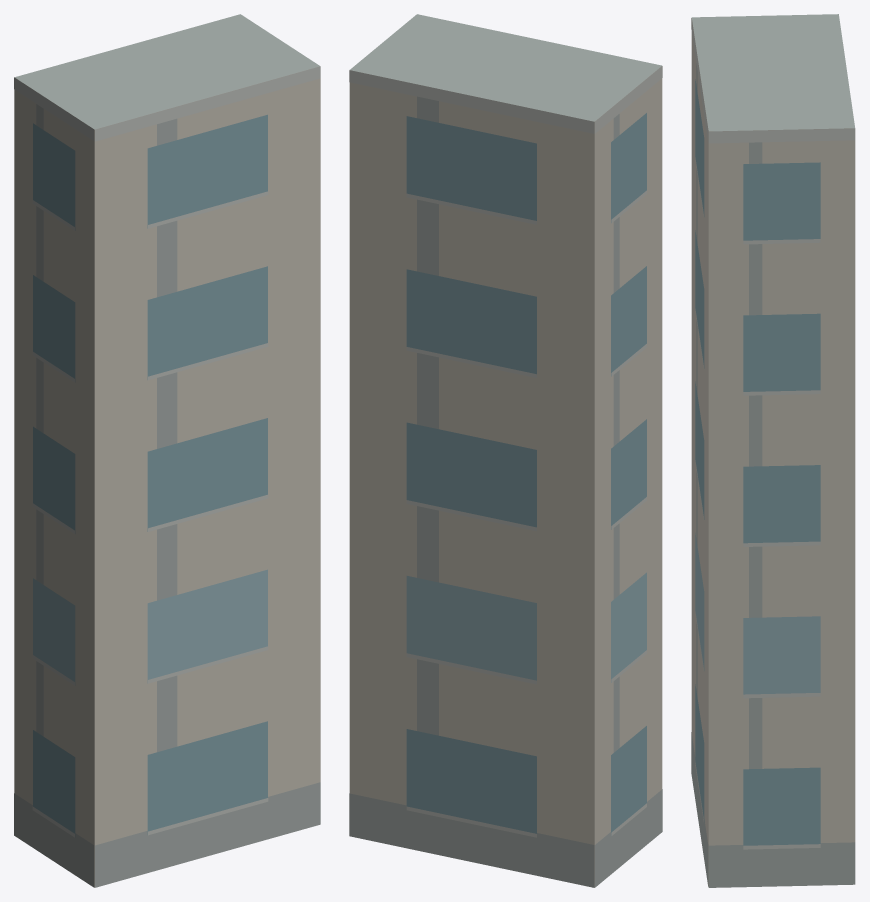
Rendered from survey-upis-32632489.glb.
The picture shows the model from 3 angles, left to right: view 1: azimuth 30°, elevation 25°; view 2: azimuth 150°, elevation 25°; view 3: azimuth 270°, elevation 25°; orthographic projection.
Parts seen in each view (by area): view 1: survey-upis-32632489.tmp; view 2: survey-upis-32632489.tmp; view 3: survey-upis-32632489.tmp.
Boxes of the visible parts, x1,y1,x2,y2 form: survey-upis-32632489.tmp: (14, 14, 320, 887); survey-upis-32632489.tmp: (349, 14, 662, 887); survey-upis-32632489.tmp: (691, 14, 855, 887).
Size of the model in its own units: 5.09 by 15.25 by 3.
